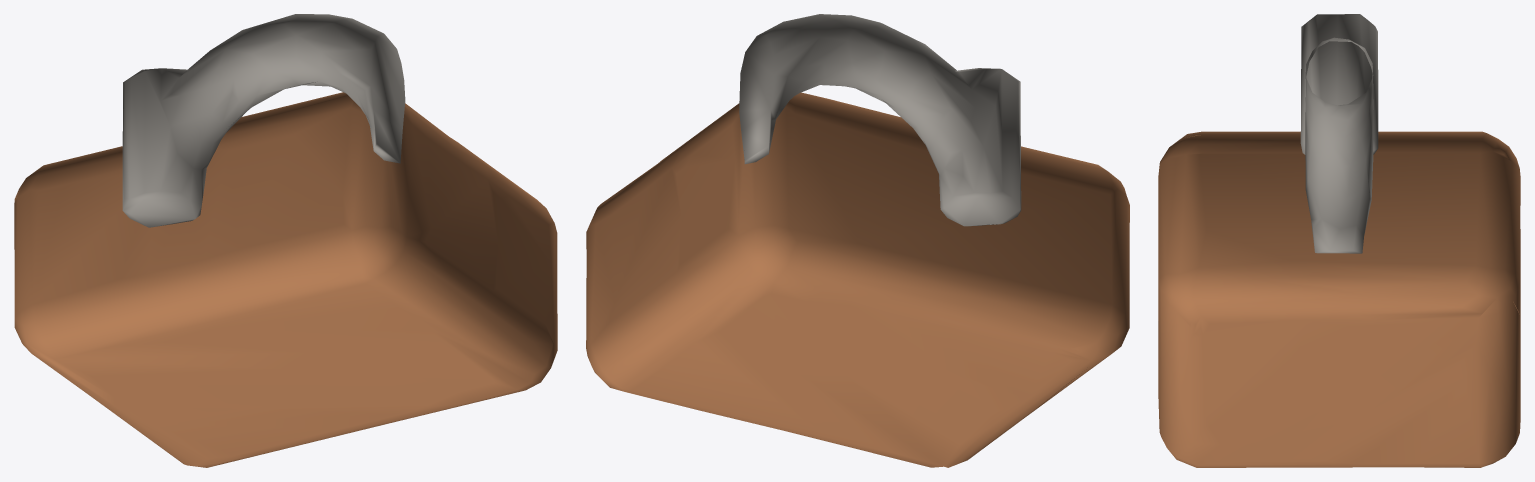
Rendered from lm_mesa.glb.
3 views of the same model, side by side, from view 1: azimuth 30°, elevation 25°; view 2: azimuth 150°, elevation 25°; view 3: azimuth 270°, elevation 25° (orthographic). The views are drawn at different scales.
Visible parts, largest first — view 1: body; view 2: body; view 3: body.
Part boxes in pixels (x1,y1,x2,y2): body: [14, 14, 557, 467]; body: [586, 14, 1129, 467]; body: [1158, 14, 1520, 467].
Size of the model in its own units: 1.9 by 1.65 by 1.6.
1 material, 1 textured.
